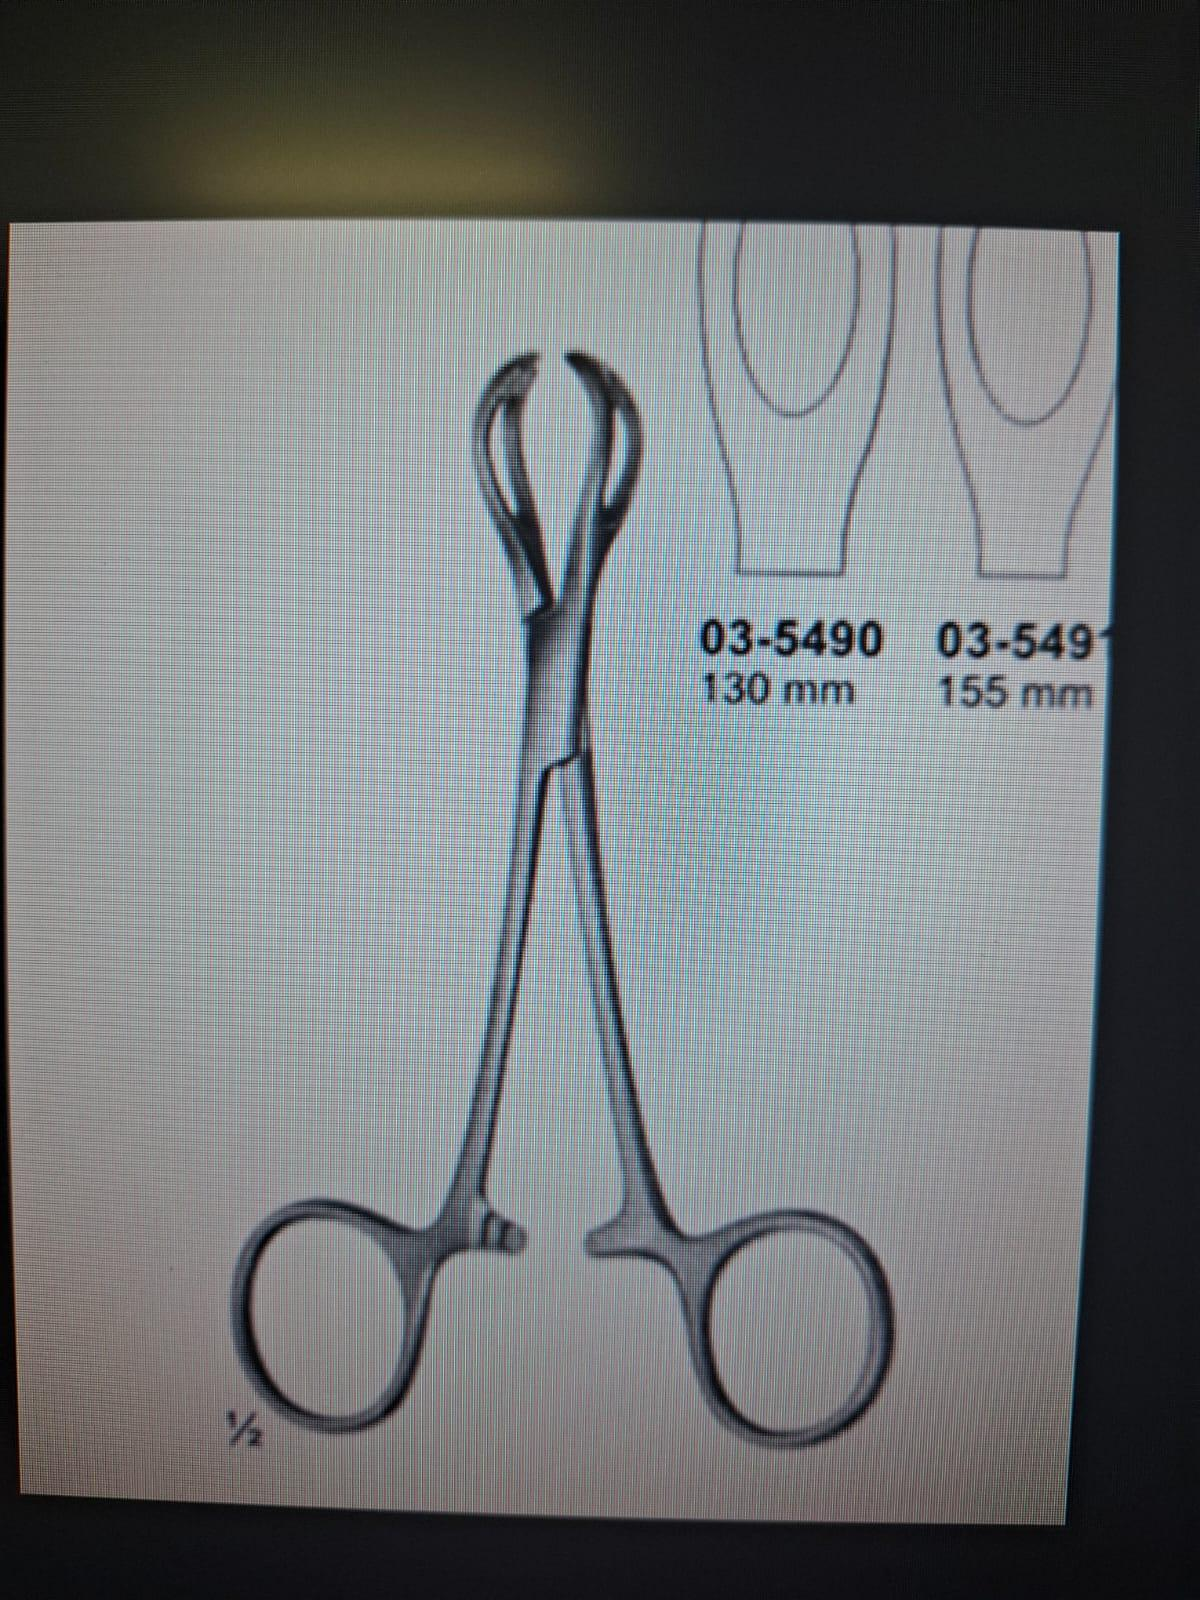Lane Tissue Forceps: (218, 340, 910, 1450)
